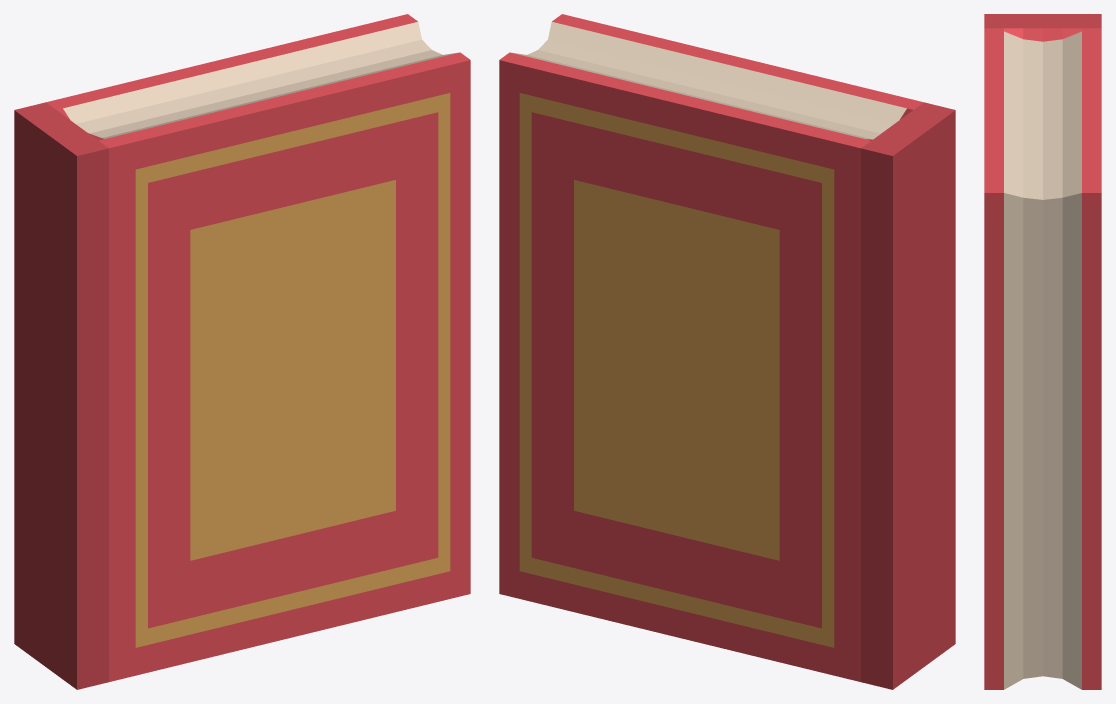
The model's file is Book_Solid.fbx.
The picture shows the model from 3 angles, left to right: view 1: azimuth 30°, elevation 25°; view 2: azimuth 150°, elevation 25°; view 3: azimuth 270°, elevation 25°; orthographic projection. The views are drawn at different scales.
Parts seen in each view (by area): view 1: Book_Solid; view 2: Book_Solid; view 3: Book_Solid.
Boxes of the visible parts, x1,y1,x2,y2 form: Book_Solid: (14, 14, 470, 689); Book_Solid: (499, 14, 955, 689); Book_Solid: (984, 14, 1101, 689).
Bounding box in the file's own units: 23.64 × 30.63 × 6.55.
